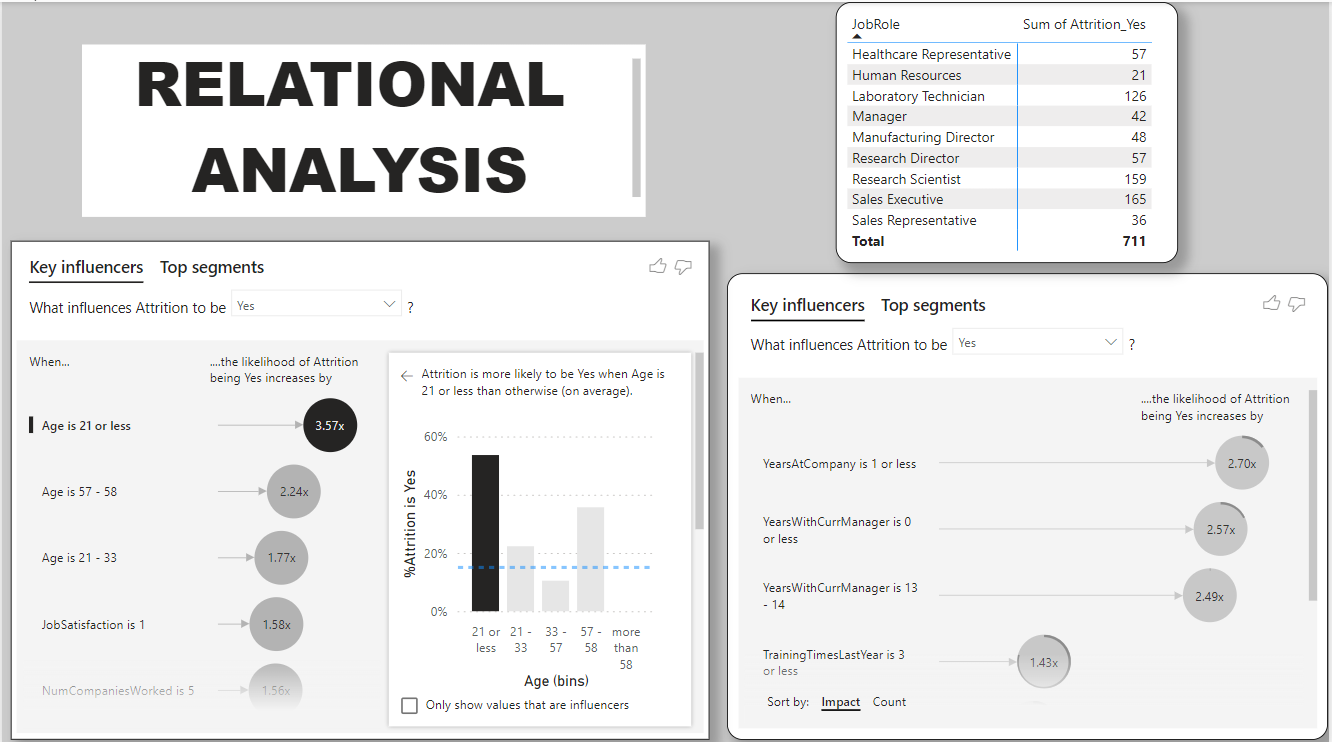

The page's visual inventory and layout, read from the dashboard file:
{"tool":"powerbi","page":{"name":"Page 2","canvas":[1280,720],"ordinal":1},"visuals":[{"type":"keyDriversVisual","fields":{"Target":["Attrition data.Attrition"],"ExplainBy":["Attrition data.TrainingTimesLastYear","Attrition data.YearsAtCompany","Attrition data.YearsSinceLastPromotion","Attrition data.YearsWithCurrManager"]},"box":[699.7,261.8,580.3,450],"z":0},{"type":"keyDriversVisual","fields":{"Target":["Attrition data.Attrition"],"ExplainBy":["Attrition data.Age","Attrition data.JobRole","Attrition data.JobSatisfaction","Attrition data.NumCompaniesWorked"]},"box":[8.4,230.4,674.4,481.4],"z":1000},{"type":"pivotTable","fields":{"Rows":["Attrition data.JobRole"],"Values":["Sum(Attrition data.Attrition_Yes)"]},"box":[804.7,0,330.6,252.1],"z":2000},{"type":"textbox","box":[77.2,41,544.1,166.5],"z":3000}]}

Visuals, with their boxes in screenshot pixels (x1, y1, x2, y2), scaled from the page's 1280x720 canvas onto the 1332x742 screenshot:
keyDriversVisual - Attrition data.Attrition x Attrition data.TrainingTimesLastYear: pyautogui.locateOnScreen(728, 270, 1331, 734)
keyDriversVisual - Attrition data.Attrition x Attrition data.Age: pyautogui.locateOnScreen(9, 237, 711, 734)
pivotTable - Attrition data.JobRole x Sum(Attrition data.Attrition_Yes): pyautogui.locateOnScreen(837, 0, 1181, 260)
textbox: pyautogui.locateOnScreen(80, 42, 647, 214)
